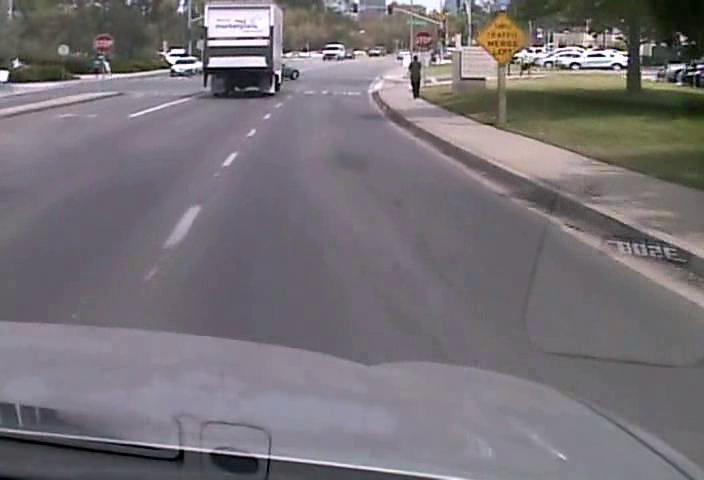stop: (413, 30, 432, 48)
